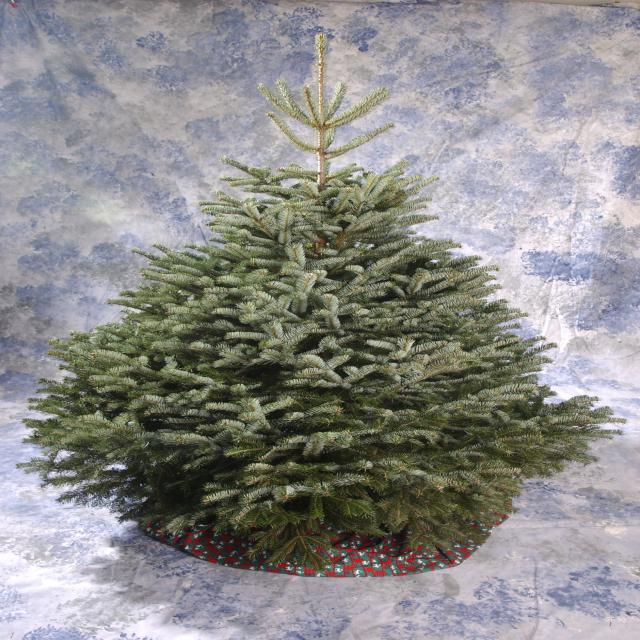Christmas-tree: (23, 25, 640, 549)
